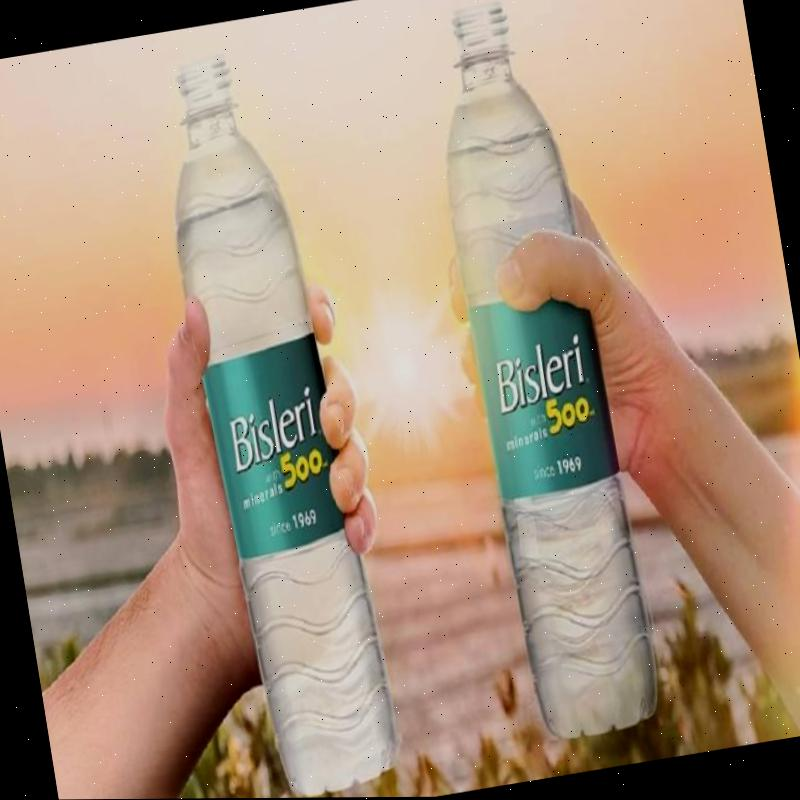botella: (145, 40, 404, 799), (416, 0, 664, 750)
